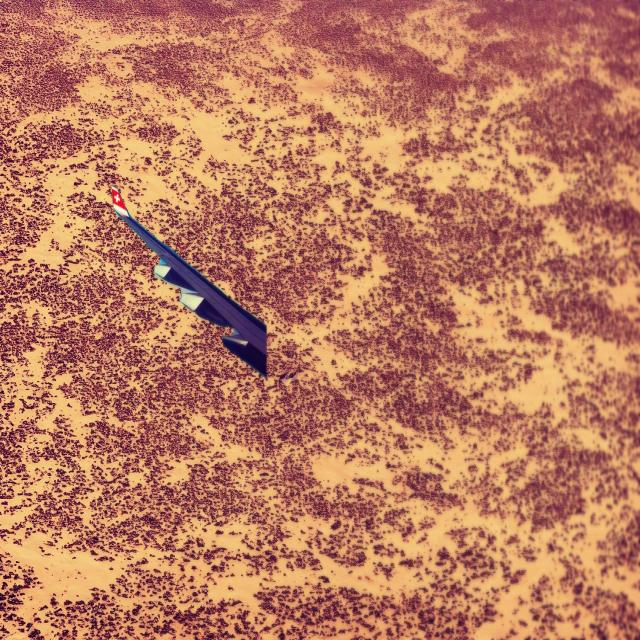airplane: (110, 185, 268, 378)
